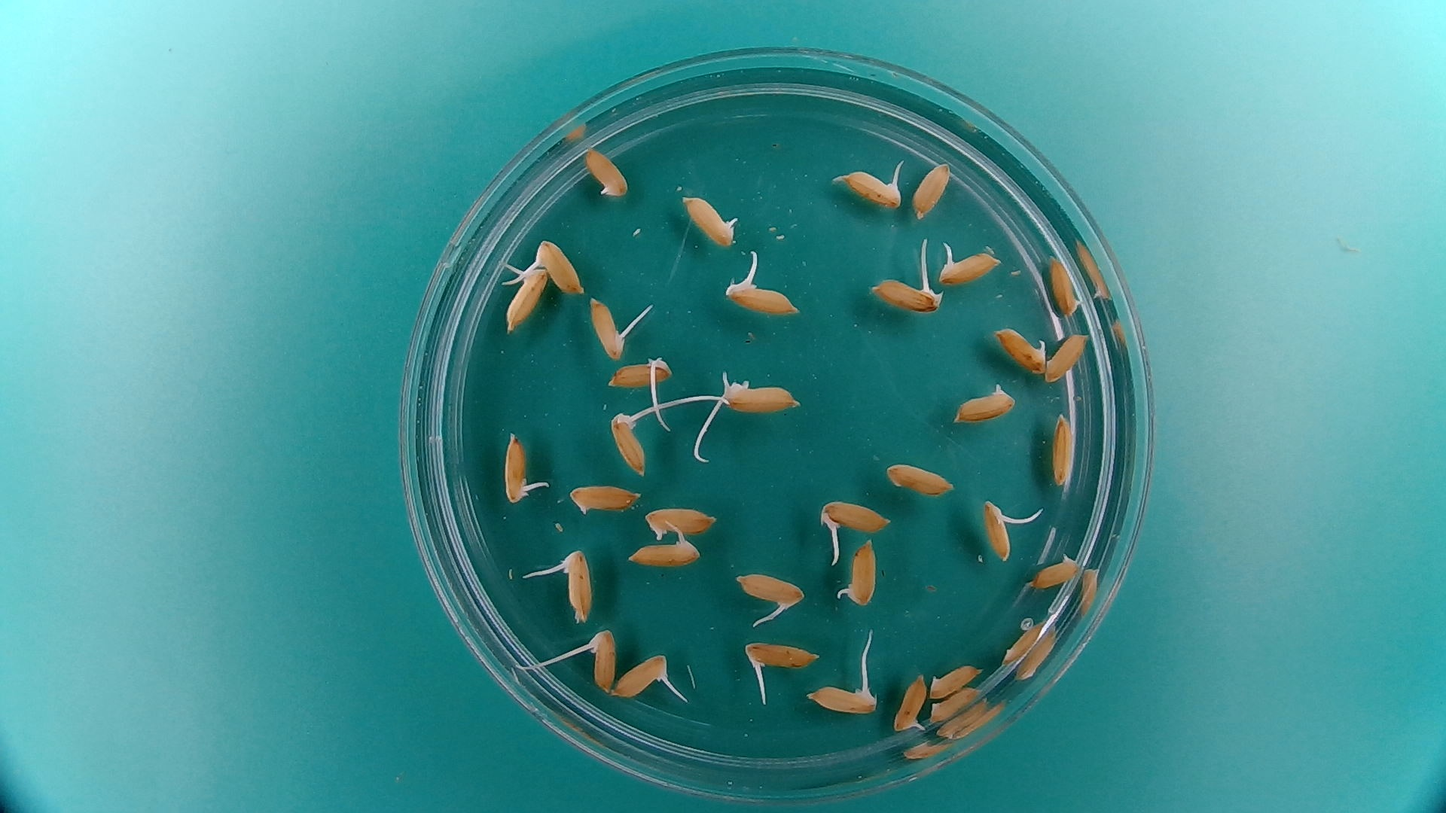no: (950, 378, 1018, 426), (563, 480, 641, 518), (581, 142, 632, 200), (881, 460, 958, 498), (1043, 327, 1089, 388), (1045, 251, 1082, 320), (911, 158, 952, 219), (1048, 410, 1077, 491), (1027, 550, 1083, 591), (1001, 616, 1043, 668), (929, 659, 984, 697), (928, 687, 981, 726)
yes: (721, 261, 804, 318), (716, 369, 805, 416), (833, 154, 908, 209), (731, 568, 808, 618), (679, 190, 743, 250), (739, 638, 822, 684), (502, 260, 549, 336), (530, 236, 586, 298), (610, 651, 679, 701), (866, 271, 944, 315), (804, 671, 880, 716), (554, 544, 596, 625), (813, 495, 894, 537), (990, 321, 1054, 374), (837, 537, 881, 610), (935, 241, 1004, 287), (499, 427, 539, 505), (586, 295, 633, 361), (608, 406, 651, 478), (640, 503, 720, 541), (623, 534, 705, 568), (604, 354, 675, 391), (979, 498, 1017, 563), (583, 625, 618, 693), (891, 669, 928, 732)
